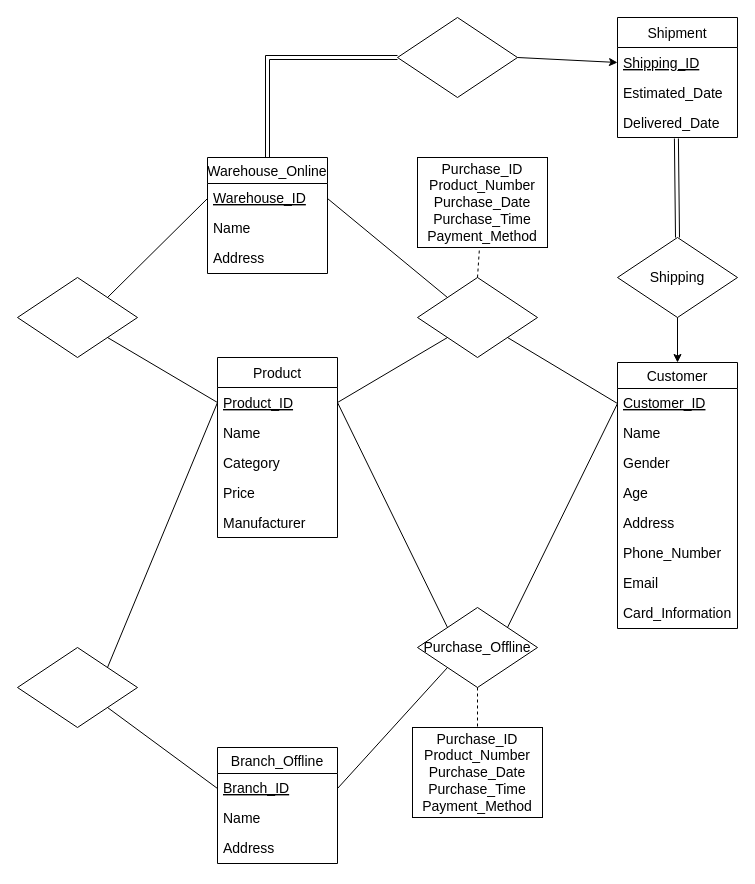
The diagram is 755 pixels wide and 884 high, and some of its shapes have lost their labels. The centre of each missing label's shape, as x and y in pixels:
"Purchase_Online" goes at pixel 477 317.
"Ship_Ready" goes at pixel 457 57.
"Stock_Offline" goes at pixel 77 687.
"Stock_Online" goes at pixel 77 317.
